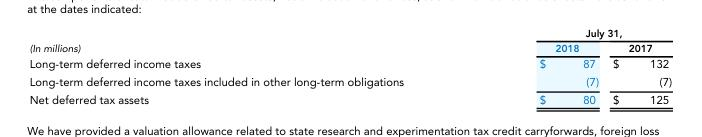table: (28, 28, 671, 105)
table column: (28, 28, 470, 105), (470, 28, 605, 105), (605, 28, 671, 105)
table column header: (28, 28, 671, 56)
table row: (28, 73, 671, 91), (28, 56, 671, 73), (28, 41, 671, 56), (28, 91, 671, 105), (28, 28, 671, 41)
table spanning cell: (28, 28, 470, 56), (470, 28, 671, 41)
